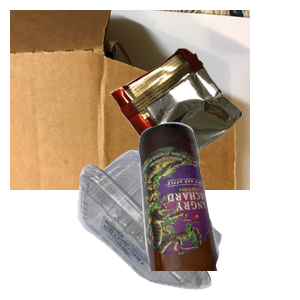cardboard: (10, 10, 250, 190)
glass: (136, 120, 300, 300)
plastic: (75, 147, 289, 300)
trash: (107, 46, 300, 198)
